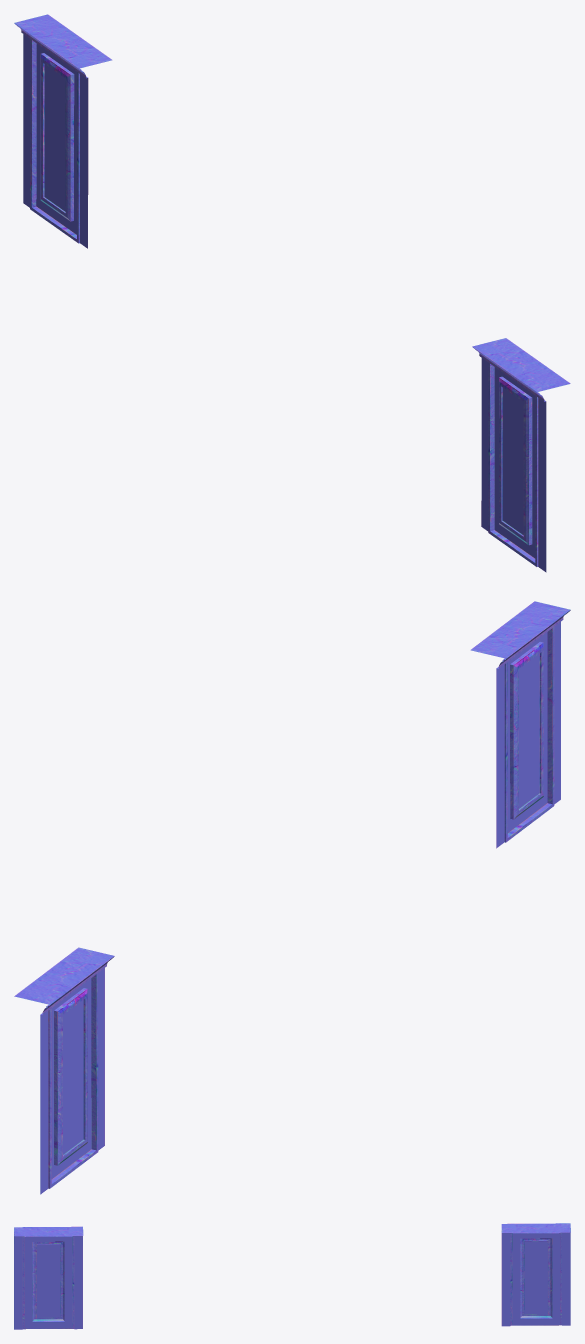
3 views of the same model, one above another, from view 1: azimuth 30°, elevation 25°; view 2: azimuth 150°, elevation 25°; view 3: azimuth 270°, elevation 25° (orthographic). The views are drawn at different scales.
Parts seen in each view (by area): view 1: _2F_brick_low_012; view 2: _2F_brick_low_012; view 3: _2F_brick_low_012.
Boxes of the visible parts, <box> form: _2F_brick_low_012: <box>14,14,570,572</box>; _2F_brick_low_012: <box>14,601,570,1194</box>; _2F_brick_low_012: <box>14,1223,570,1329</box>.
Bounding box in the file's own units: 120 × 436 × 2202.
